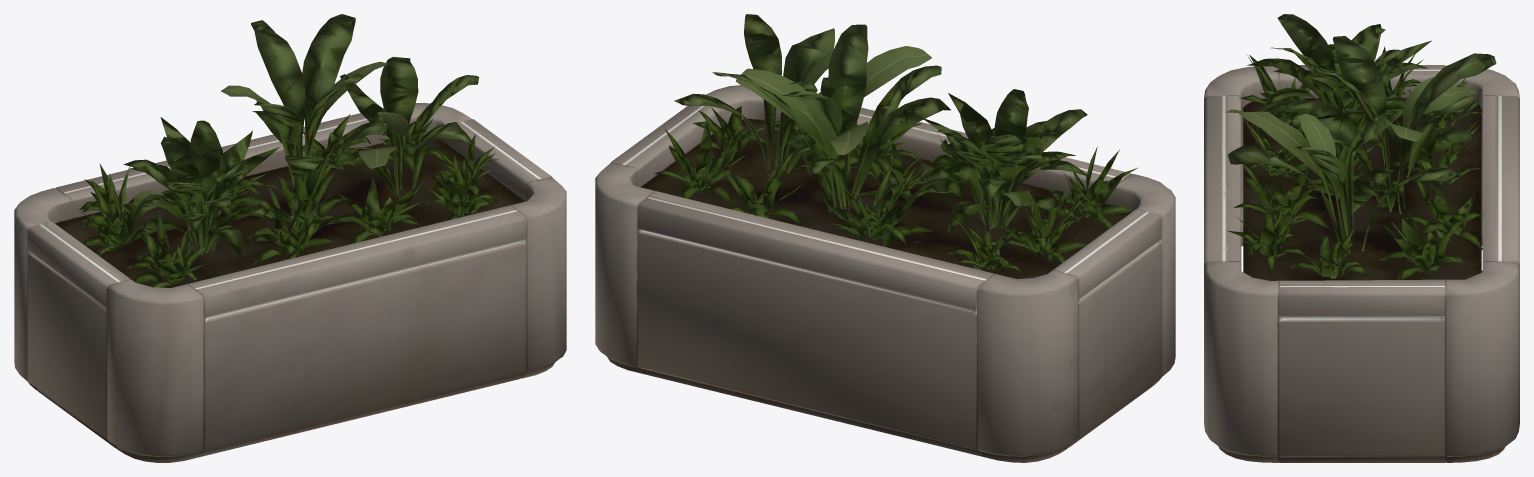
Rendered from jardineira.glb.
The picture shows the model from 3 angles, left to right: view 1: azimuth 30°, elevation 25°; view 2: azimuth 150°, elevation 25°; view 3: azimuth 270°, elevation 25°; orthographic projection. The views are drawn at different scales.
Visible parts, largest first — view 1: Jardineira arquitetônica; view 2: Jardineira arquitetônica; view 3: Jardineira arquitetônica.
Part boxes in pixels (left/top/right/bottom): Jardineira arquitetônica: left=14, top=14, right=566, bottom=462; Jardineira arquitetônica: left=595, top=14, right=1175, bottom=462; Jardineira arquitetônica: left=1204, top=14, right=1519, bottom=462.
Size of the model in its own units: 0.998 by 0.627 by 0.5801.
Materials: 1 (1 with a texture image).
